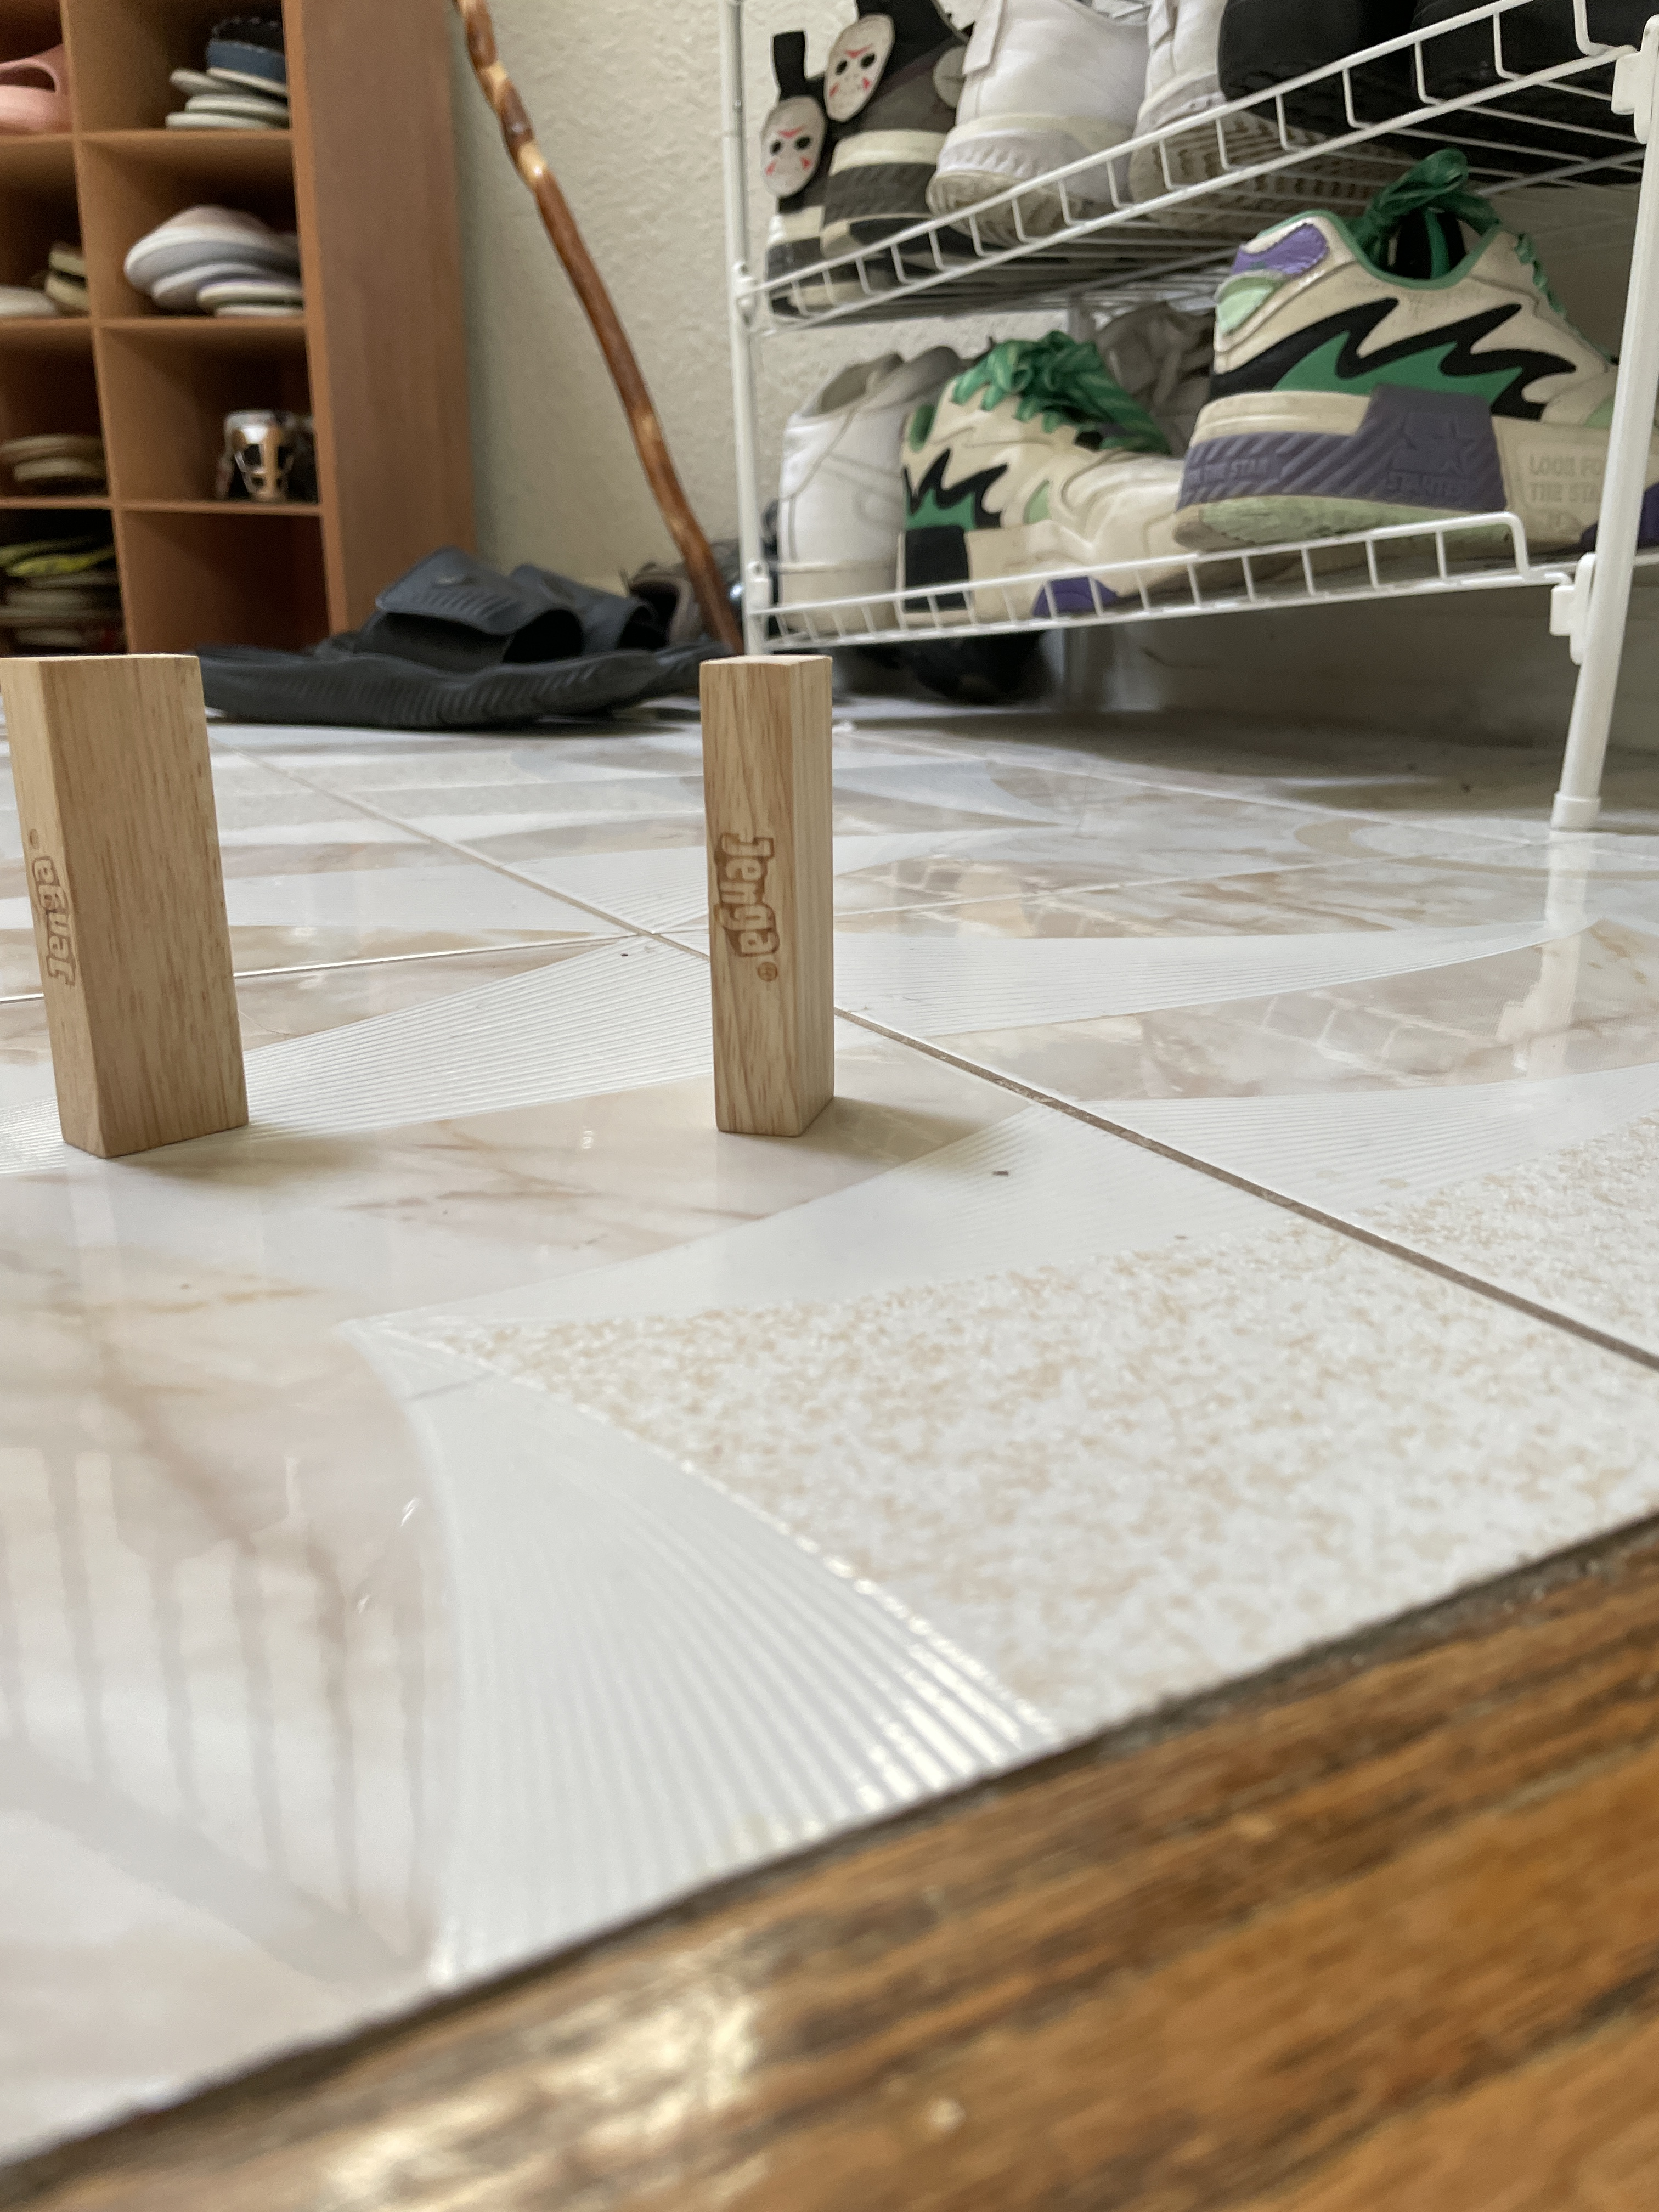jenga: (3, 658, 272, 1151), (681, 646, 850, 1144)
